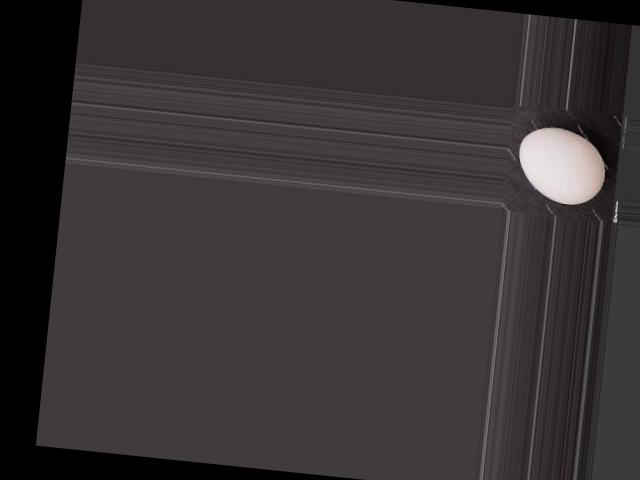egg: (515, 123, 609, 207)
